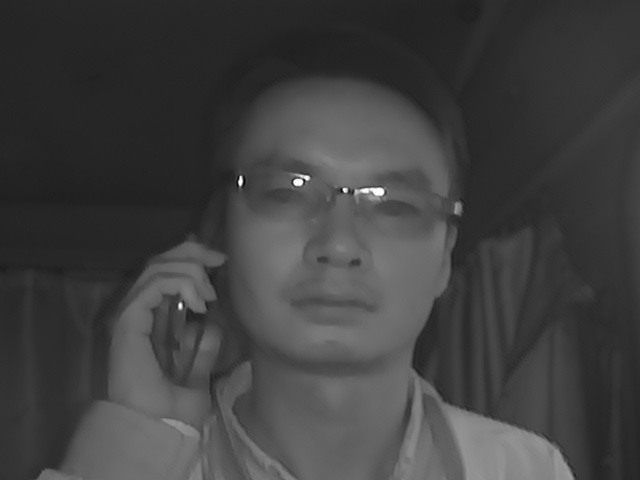hand: (106, 241, 224, 420)
